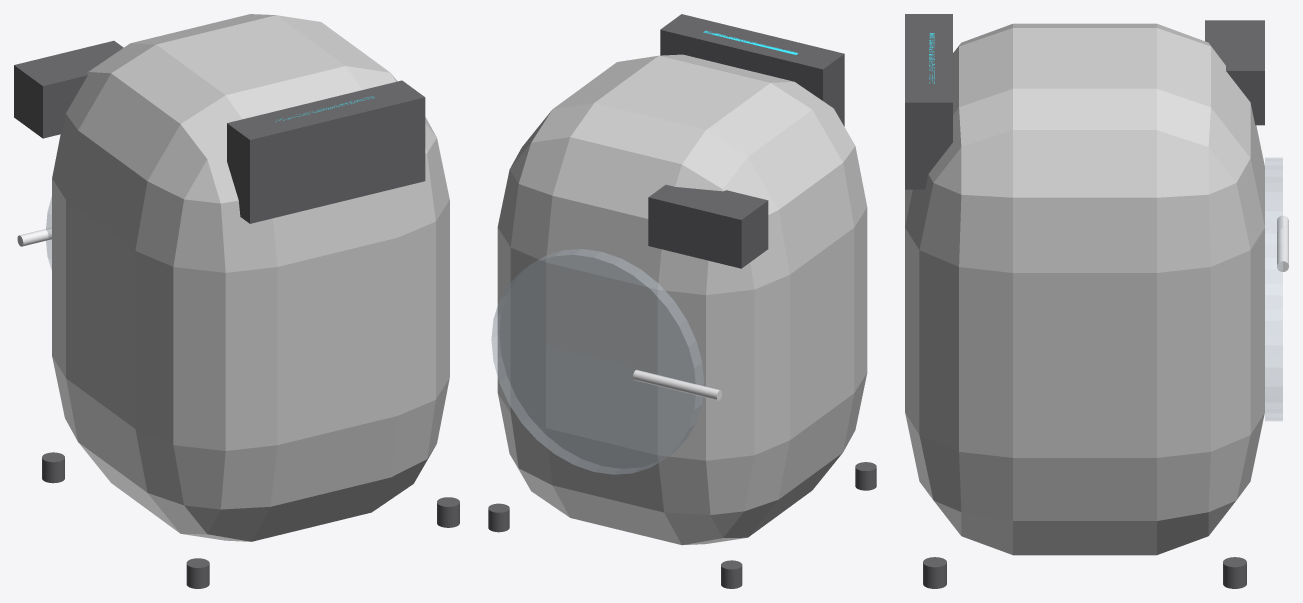
Rendered from lavadora.glb.
3 views of the same model, side by side, from view 1: azimuth 30°, elevation 25°; view 2: azimuth 150°, elevation 25°; view 3: azimuth 270°, elevation 25° (orthographic). The views are drawn at different scales.
Parts seen in each view (by area): view 1: Lavadora_Body, Lavadora_Panel, Lavadora_Drawer, Lavadora_Foot_0, Lavadora_Foot_1, Lavadora_Foot_2; view 2: Lavadora_Body, Lavadora_Door, Lavadora_Drawer, Lavadora_Panel, Lavadora_Handle, Lavadora_Foot_0, Lavadora_Foot_3, Lavadora_Foot_2; view 3: Lavadora_Body, Lavadora_Panel, Lavadora_Door, Lavadora_Drawer, Lavadora_Foot_1, Lavadora_Foot_3, Lavadora_Handle.
Part boxes in pixels (bbox=[...]): Lavadora_Body: bbox=[52, 14, 449, 541]; Lavadora_Panel: bbox=[227, 80, 425, 223]; Lavadora_Drawer: bbox=[14, 40, 123, 138]; Lavadora_Foot_0: bbox=[186, 558, 209, 588]; Lavadora_Foot_1: bbox=[437, 497, 459, 527]; Lavadora_Foot_2: bbox=[42, 452, 64, 483]; Lavadora_Body: bbox=[497, 54, 867, 545]; Lavadora_Door: bbox=[491, 249, 704, 474]; Lavadora_Drawer: bbox=[648, 184, 768, 268]; Lavadora_Panel: bbox=[660, 14, 844, 126]; Lavadora_Handle: bbox=[633, 369, 721, 400]; Lavadora_Foot_0: bbox=[855, 462, 876, 490]; Lavadora_Foot_3: bbox=[488, 503, 509, 532]; Lavadora_Foot_2: bbox=[721, 560, 742, 588]; Lavadora_Body: bbox=[905, 23, 1264, 555]; Lavadora_Panel: bbox=[905, 14, 952, 189]; Lavadora_Door: bbox=[1265, 157, 1282, 421]; Lavadora_Drawer: bbox=[1205, 20, 1264, 125]; Lavadora_Foot_1: bbox=[923, 557, 946, 588]; Lavadora_Foot_3: bbox=[1223, 557, 1246, 588]; Lavadora_Handle: bbox=[1277, 215, 1288, 271].
Size of the model in its own units: 60 by 85 by 64.
